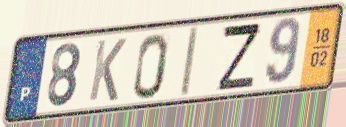0: (132, 30, 172, 101)
8: (45, 41, 82, 108)
9: (263, 15, 302, 89)
I: (178, 24, 201, 100)
K: (86, 36, 129, 104)
Z: (216, 21, 263, 93)
